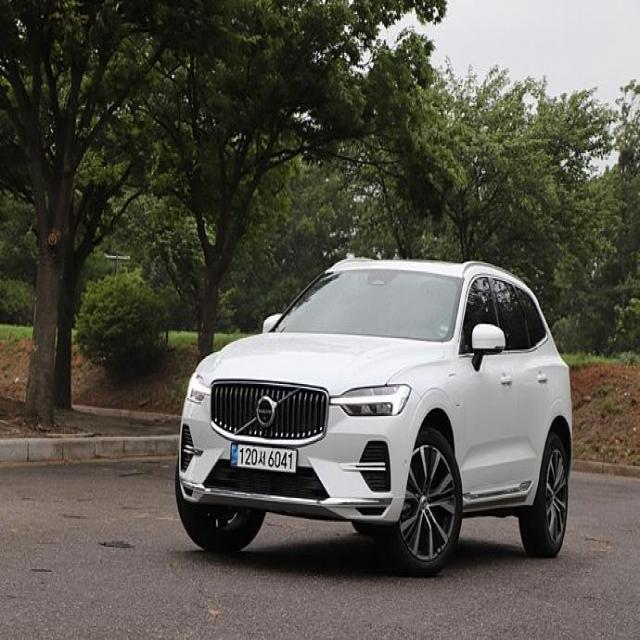car: (169, 246, 579, 575)
illegal_plate: (230, 442, 298, 477)
